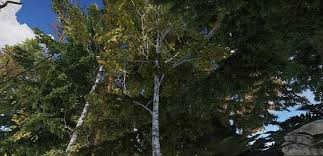tree: (49, 42, 134, 156), (148, 9, 166, 156)
